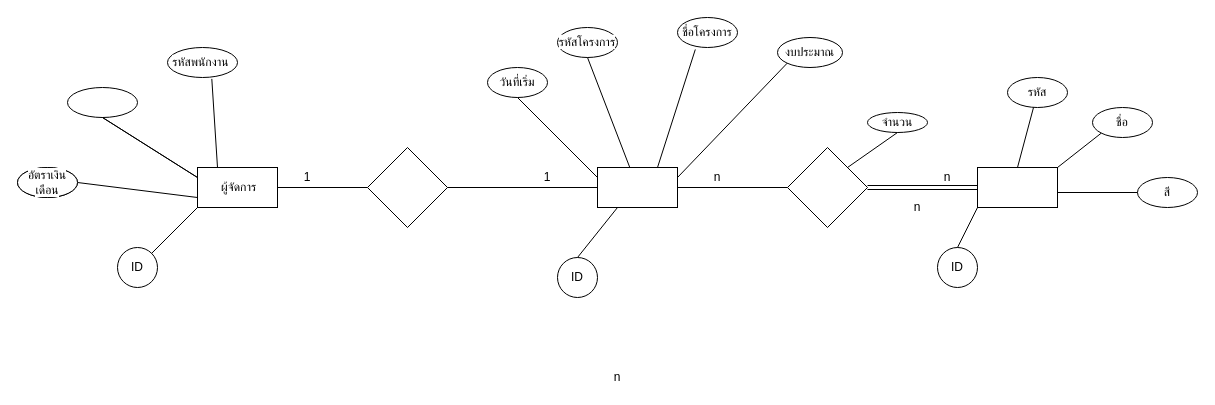
Image size: 1215x405. Some labels were removed from this diagram. The shapes that lost their labels are listed below. From the top down, each one's centre as x and y in pixels, then its label:
At point 102,102: "ชื่อ สกุล".
At point 407,187: "บริหาร".
At point 637,187: "โครงการ".
At point 827,187: "ใช้งานอุปกรณ์".
At point 1017,187: "อุปกรณ์".
